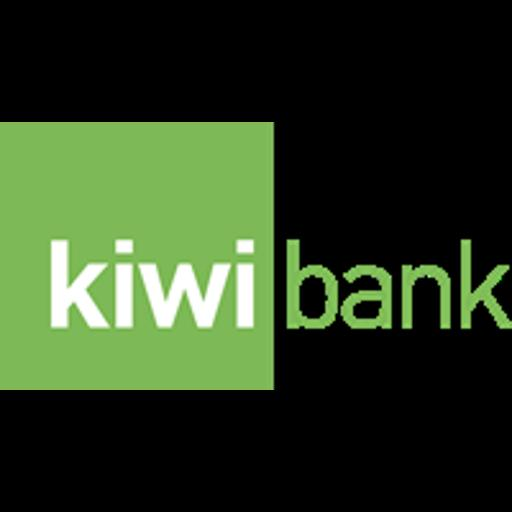Kiwibank Limited: (0, 122, 512, 390)
